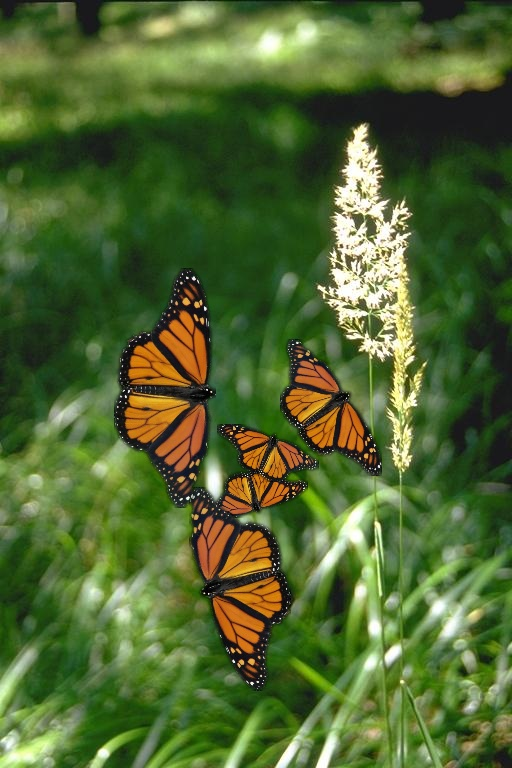danaus_plexippus: (114, 268, 216, 508), (189, 487, 291, 691), (280, 339, 382, 476), (217, 424, 319, 482), (206, 468, 308, 518)
